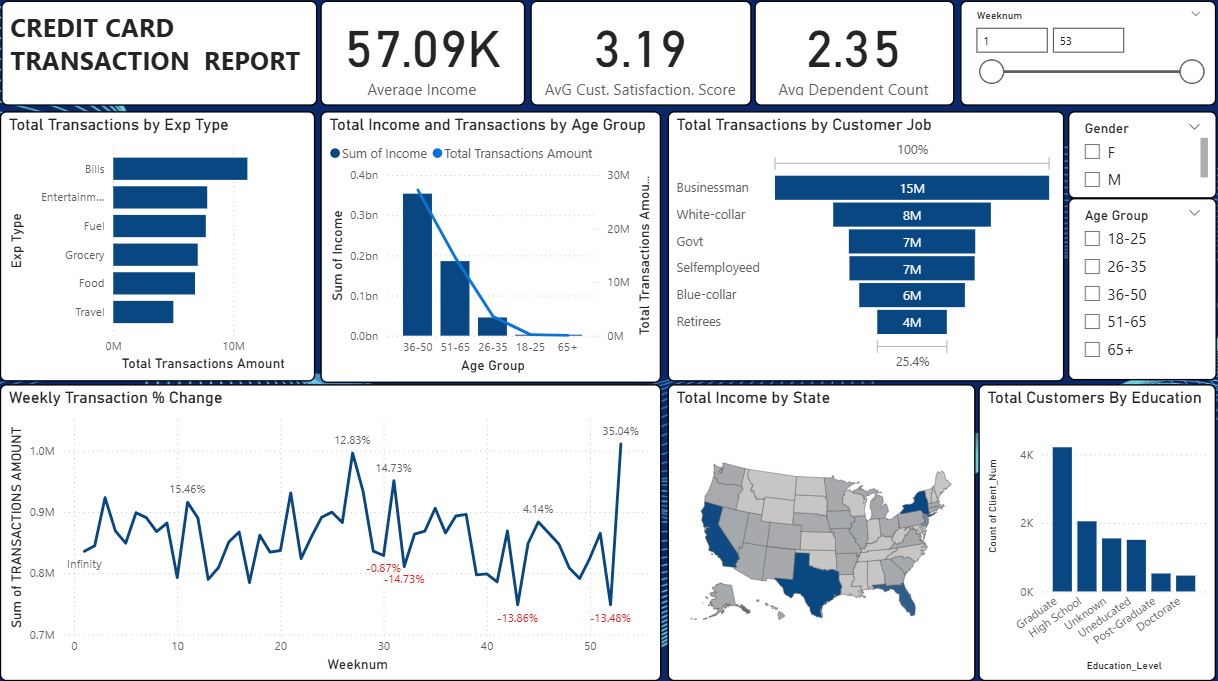

What the dashboard file says about the page in this screenshot:
{"tool":"powerbi","page":{"name":"Credit Card Transaction Report","canvas":[1280,720],"ordinal":1},"visuals":[{"type":"lineChart","title":"Weekly Transaction % Change ","fields":{"Category":["DateTable.Weeknum"],"Y":["Sum(customer.TRANSACTIONS AMOUNT)"]},"box":[3,407,692.1,311],"z":0},{"type":"slicer","fields":{"Values":["customer.Gender"]},"box":[1119.8,121.2,156,91.8],"z":1000},{"type":"slicer","fields":{"Values":["DateTable.Weeknum"]},"box":[1007.8,5.5,268,110.1],"z":2000},{"type":"card","fields":{"Values":["Avg(customer.Income)"]},"box":[339,5.5,214,110.1],"z":3000},{"type":"card","fields":{"Values":["Avg(customer.Dependent_Count)"]},"box":[793,5.5,209,110.1],"z":4000},{"type":"lineClusteredColumnComboChart","title":"Total Income and Transactions by Age Group","fields":{"Category":["customer.Age Group"],"Y":["Sum(customer.Income)"],"Y2":["CreditCard.Total Transactions Amount"]},"box":[338.8,121.3,356.5,284],"z":5000},{"type":"shapeMap","title":"Total Income by State","fields":{"Category":["customer.state_cd"],"Value":["Sum(customer.Income)"]},"box":[701.2,406.8,322.5,310.7],"z":6000},{"type":"funnel","title":"Total Transactions by Customer Job","fields":{"Category":["customer.Customer_Job"],"Y":["CreditCard.Total Transactions Amount"]},"box":[701.2,121.2,414.9,282.7],"z":7000},{"type":"barChart","title":"Total Transactions by Exp Type","fields":{"Category":["CreditCard.Exp Type"],"Y":["CreditCard.Total Transactions Amount"]},"box":[3,121.3,329.9,282.5],"z":8000},{"type":"card","fields":{"Values":["Avg(customer.Cust_Satisfaction_Score)"]},"box":[558,5.5,231.3,110.1],"z":9000},{"type":"columnChart","title":"Total Customers By Education","fields":{"Category":["customer.Education_Level"],"Y":["CountNonNull(customer.Client_Num)"]},"box":[1026.6,406.8,248.5,310.7],"z":10000},{"type":"textbox","box":[3.7,5.5,330.4,110.1],"z":12000},{"type":"slicer","fields":{"Values":["customer.Age Group"]},"box":[1119.8,212.9,156,190.9],"z":13000}]}

Visuals, with their boxes in screenshot pixels (x1, y1, x2, y2), scaled from the page's 1280x720 canvas onto the 1218x681 screenshot:
"Weekly Transaction % Change " lineChart: region(3, 385, 661, 679)
slicer - customer.Gender: region(1066, 115, 1214, 201)
slicer - DateTable.Weeknum: region(959, 5, 1214, 109)
card - Avg(customer.Income): region(323, 5, 526, 109)
card - Avg(customer.Dependent_Count): region(755, 5, 953, 109)
"Total Income and Transactions by Age Group" lineClusteredColumnComboChart: region(322, 115, 662, 383)
"Total Income by State" shapeMap: region(667, 385, 974, 679)
"Total Transactions by Customer Job" funnel: region(667, 115, 1062, 382)
"Total Transactions by Exp Type" barChart: region(3, 115, 317, 382)
card - Avg(customer.Cust_Satisfaction_Score): region(531, 5, 751, 109)
"Total Customers By Education" columnChart: region(977, 385, 1213, 679)
textbox: region(4, 5, 318, 109)
slicer - customer.Age Group: region(1066, 201, 1214, 382)
